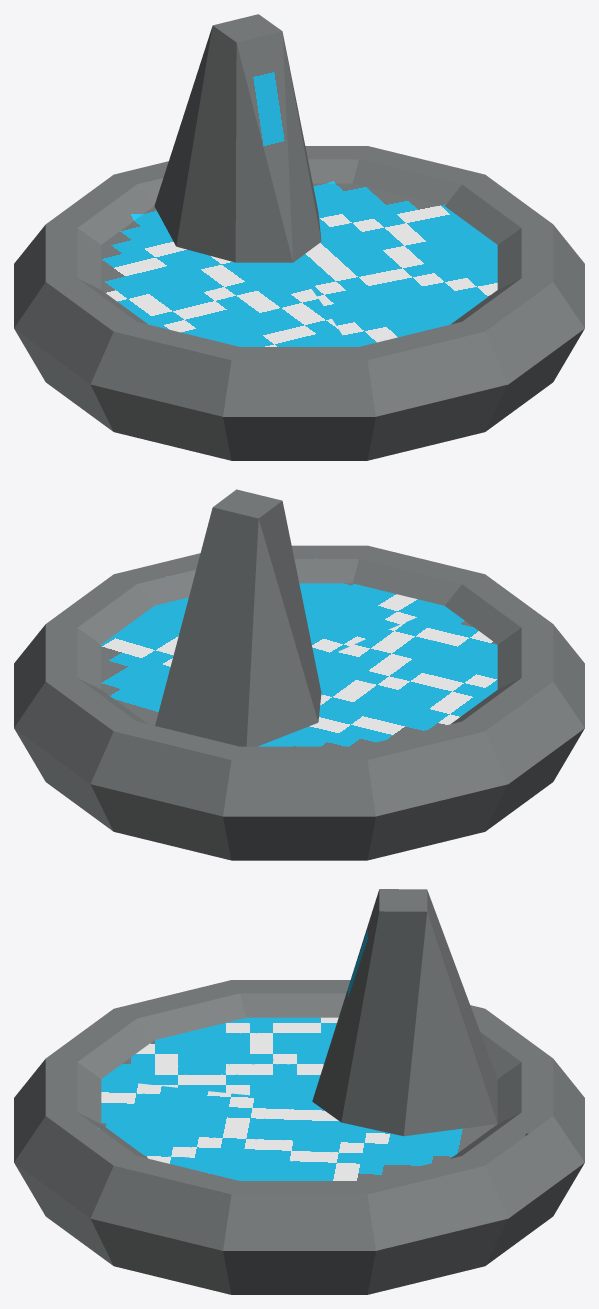
Rendered from fountain.obj.
3 renders of one model, top to bottom at view 1: azimuth 30°, elevation 25°; view 2: azimuth 150°, elevation 25°; view 3: azimuth 270°, elevation 25°, orthographic.
Visible parts, largest first — view 1: cylinder; view 2: cylinder; view 3: cylinder.
Part boxes in pixels (left/top/right/bottom): cylinder: left=14, top=14, right=584, bottom=460; cylinder: left=14, top=489, right=584, bottom=860; cylinder: left=14, top=889, right=584, bottom=1294.
Size of the model in its own units: 0.8438 by 0.4688 by 0.8438.
Materials: 1 (1 with a texture image).
